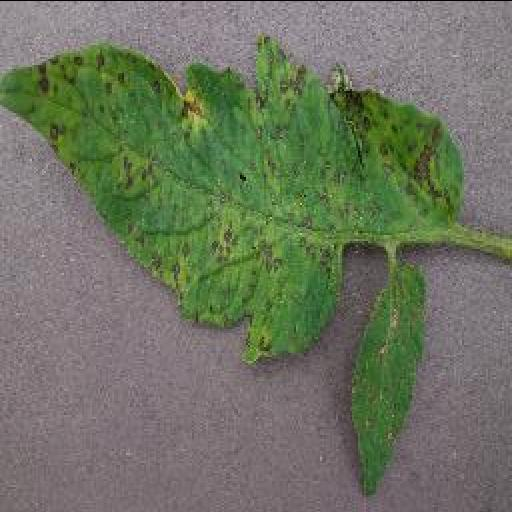disease_tomato: (2, 38, 464, 364)
